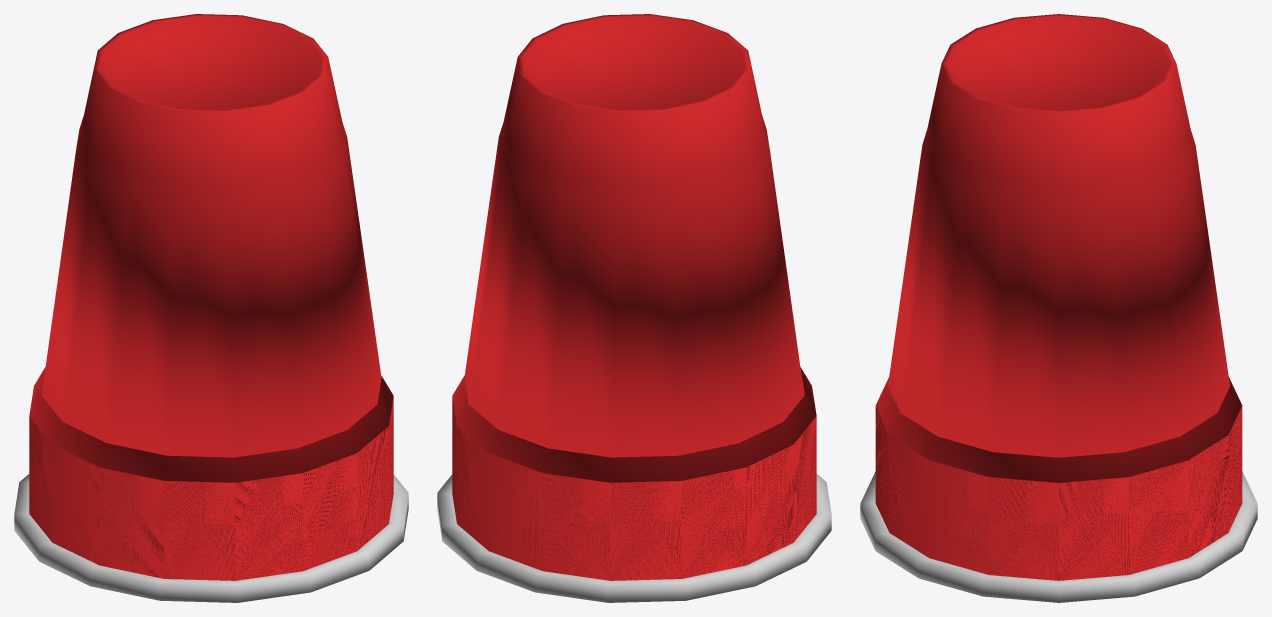
File: Cup.fbx
3 views of the same model, side by side, from view 1: azimuth 30°, elevation 25°; view 2: azimuth 150°, elevation 25°; view 3: azimuth 270°, elevation 25° (orthographic).
Parts seen in each view (by area): view 1: Cylinder; view 2: Cylinder; view 3: Cylinder.
Part boxes in pixels (x1=…): Cylinder: x1=14, y1=14, x2=408, y2=602; Cylinder: x1=437, y1=14, x2=831, y2=602; Cylinder: x1=860, y1=14, x2=1257, y2=602.
Bounding box in the file's own units: 295 × 373 × 295.
